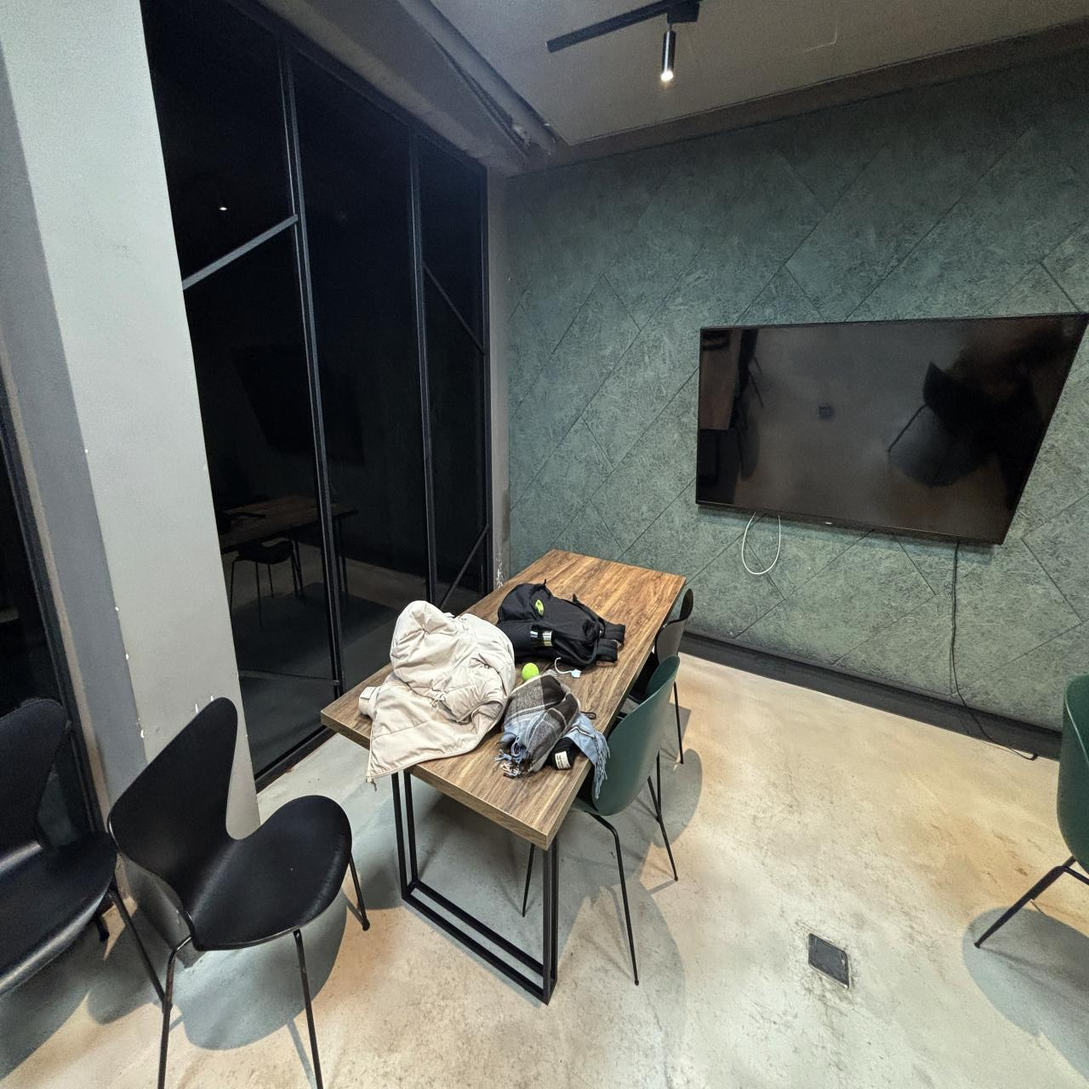tennisball: (522, 662, 539, 681)
